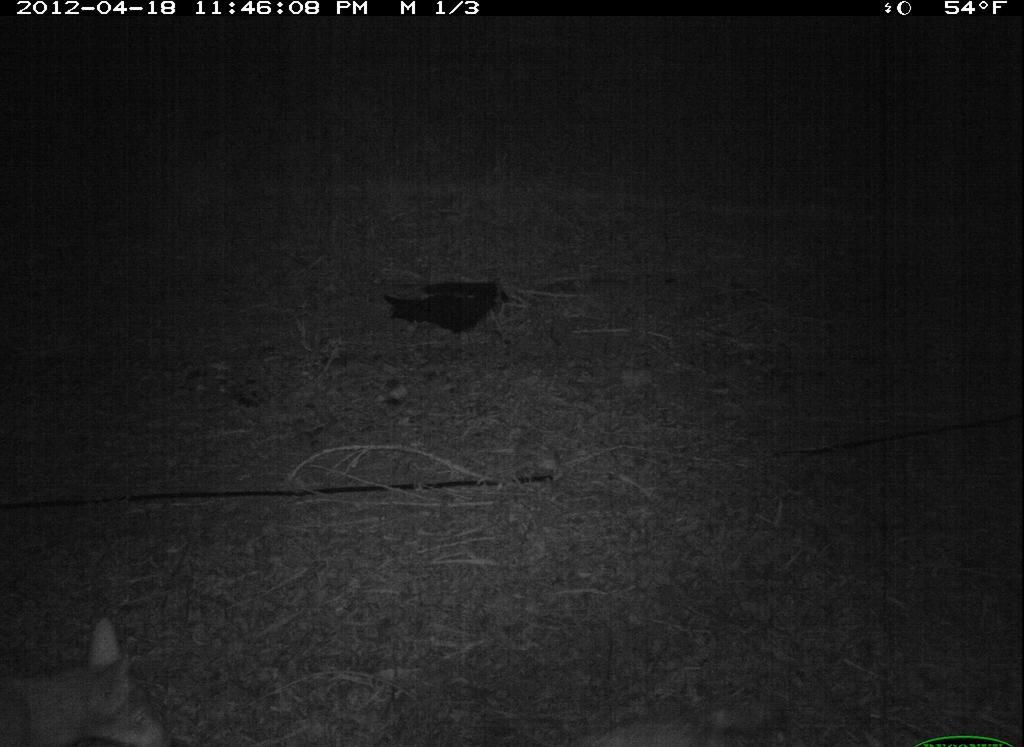coyote: (2, 612, 187, 745)
